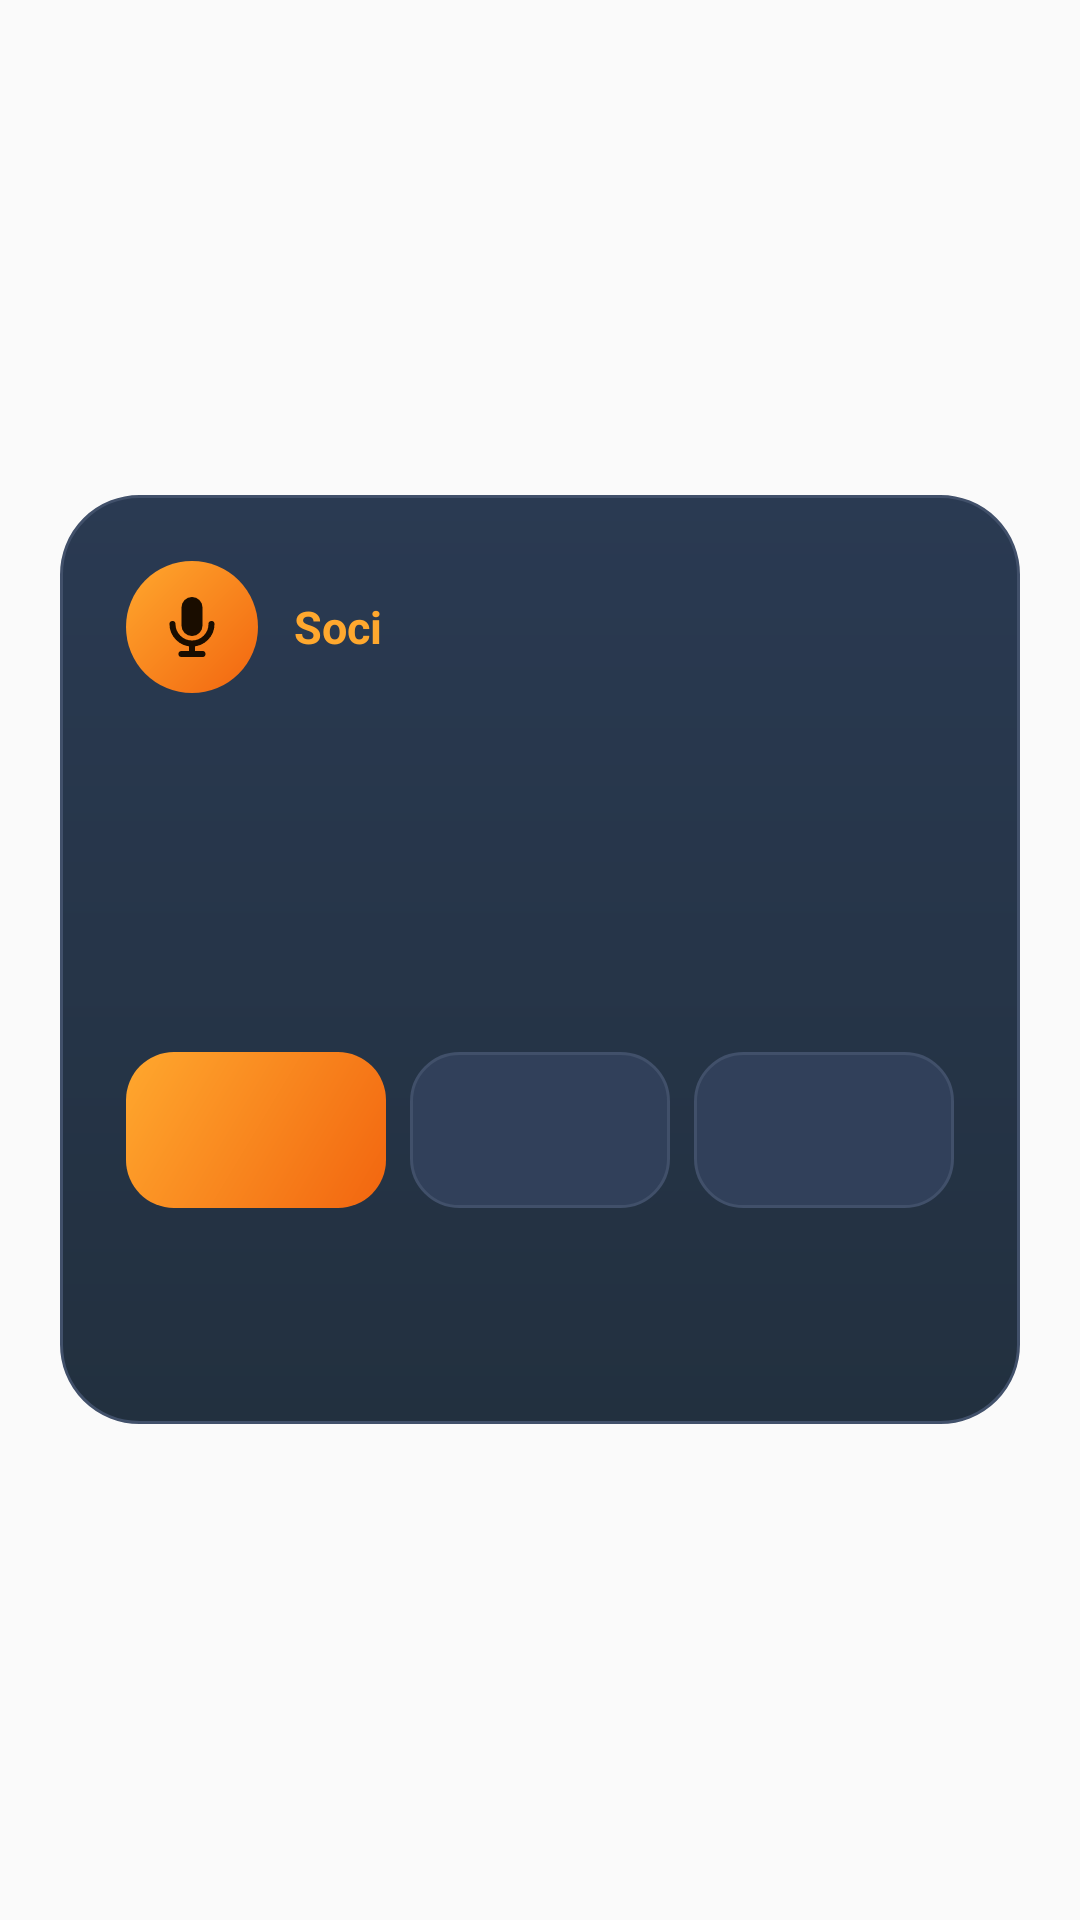

Where to tap for icons on this 1080*1920 app screen, as point (x, y):
giny mic icona: point (192, 627)
